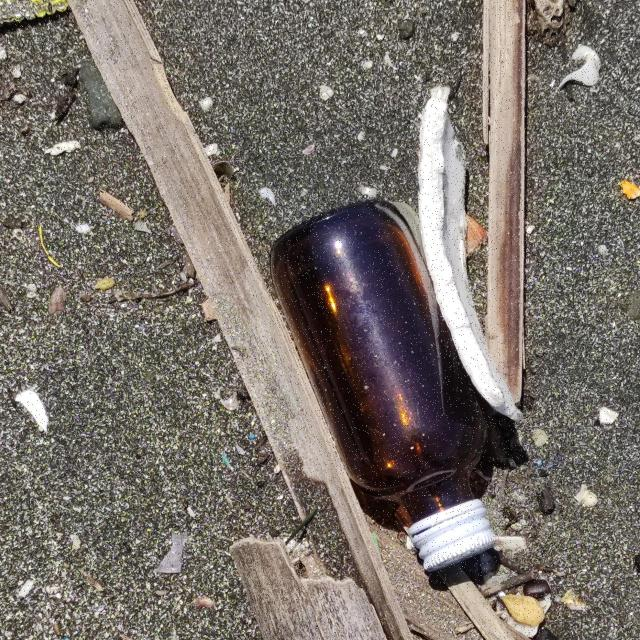glass_waste: (186, 198, 505, 575)
